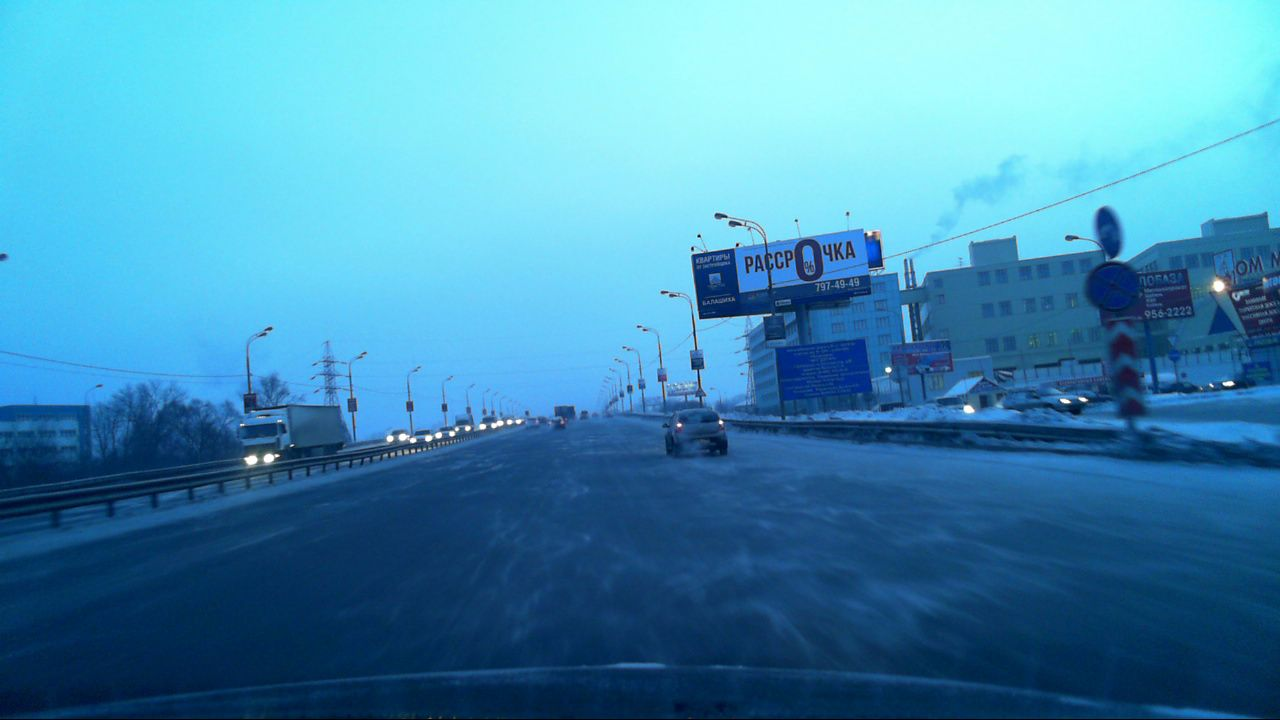No Parking: (1083, 262, 1141, 314)
